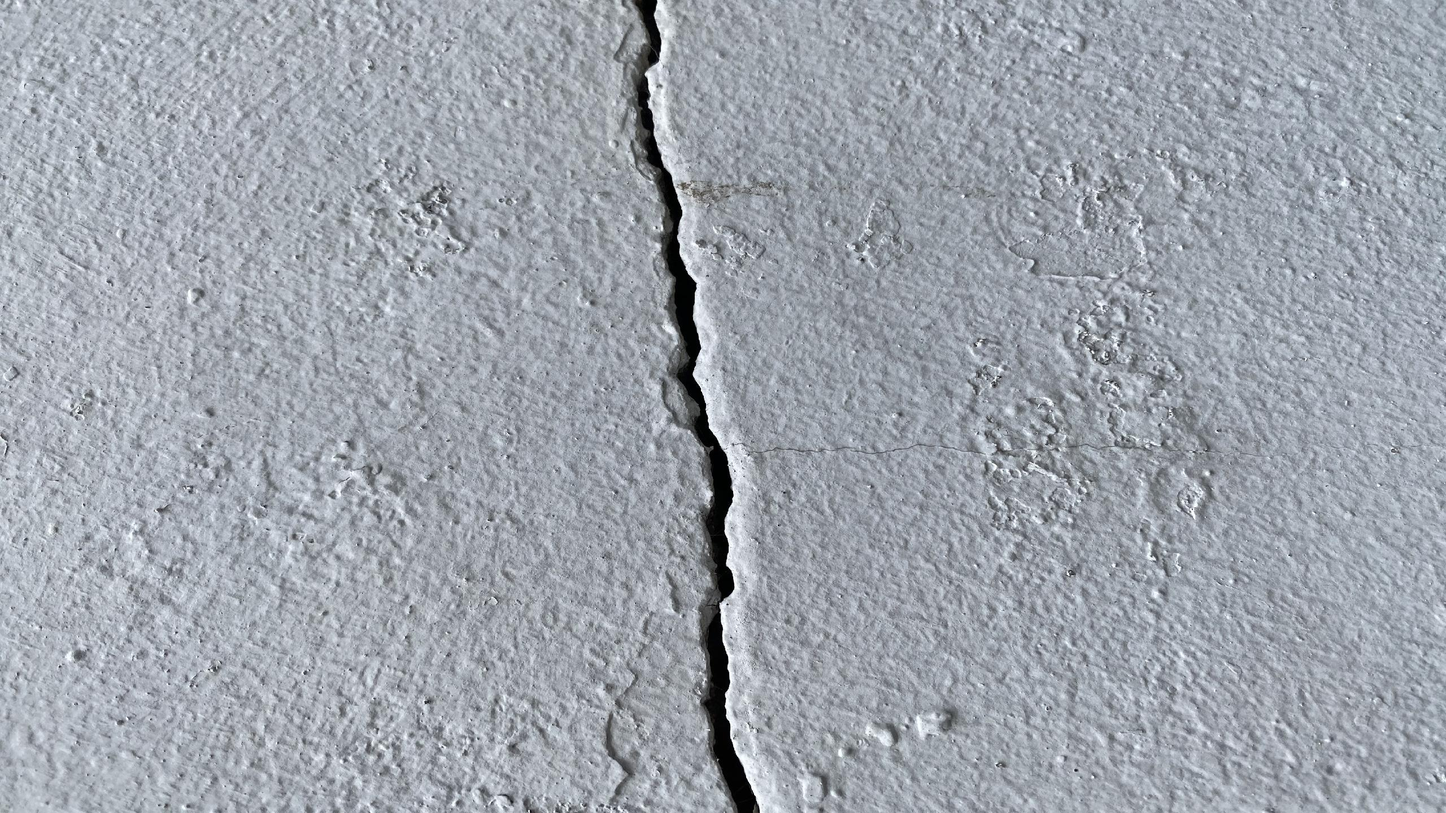crack: (630, 0, 762, 812)
